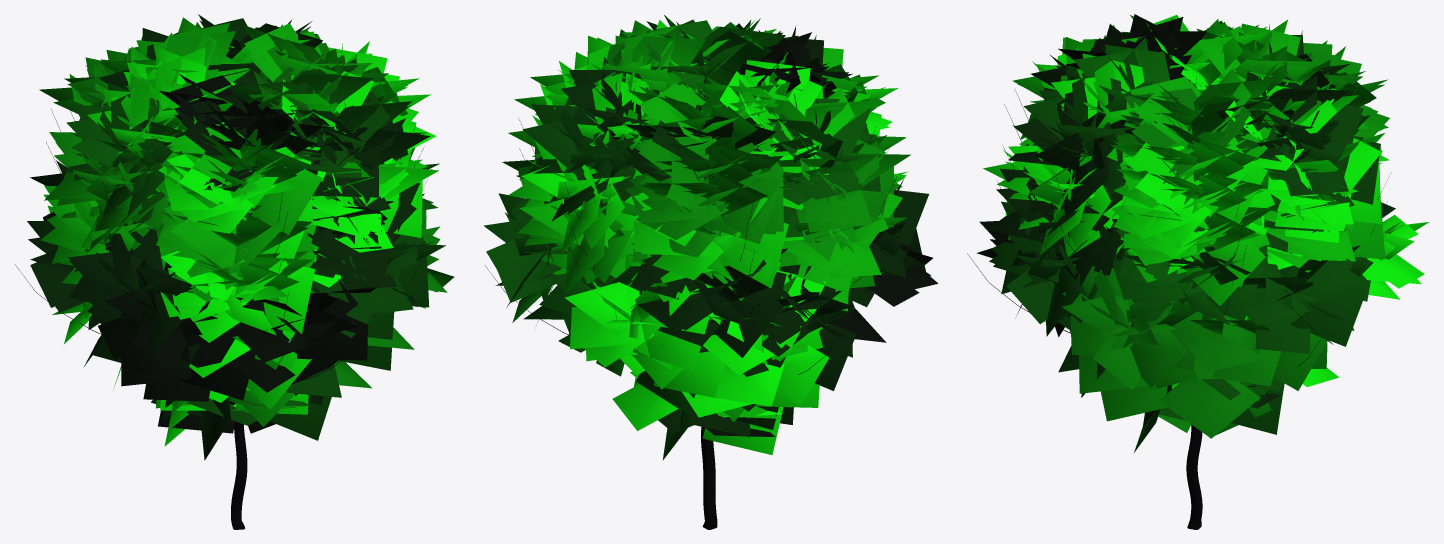
Rendered from SilverLime_1.fbx.
3 views of the same model, side by side, from view 1: azimuth 30°, elevation 25°; view 2: azimuth 150°, elevation 25°; view 3: azimuth 270°, elevation 25° (orthographic).
Parts seen in each view (by area): view 1: SilverLime_1; view 2: SilverLime_1; view 3: SilverLime_1.
Boxes of the visible parts, x1,y1,x2,y2 form: SilverLime_1: (15, 14, 454, 529); SilverLime_1: (484, 15, 937, 529); SilverLime_1: (967, 14, 1428, 529).
Size of the model in its own units: 535 by 647 by 572.
